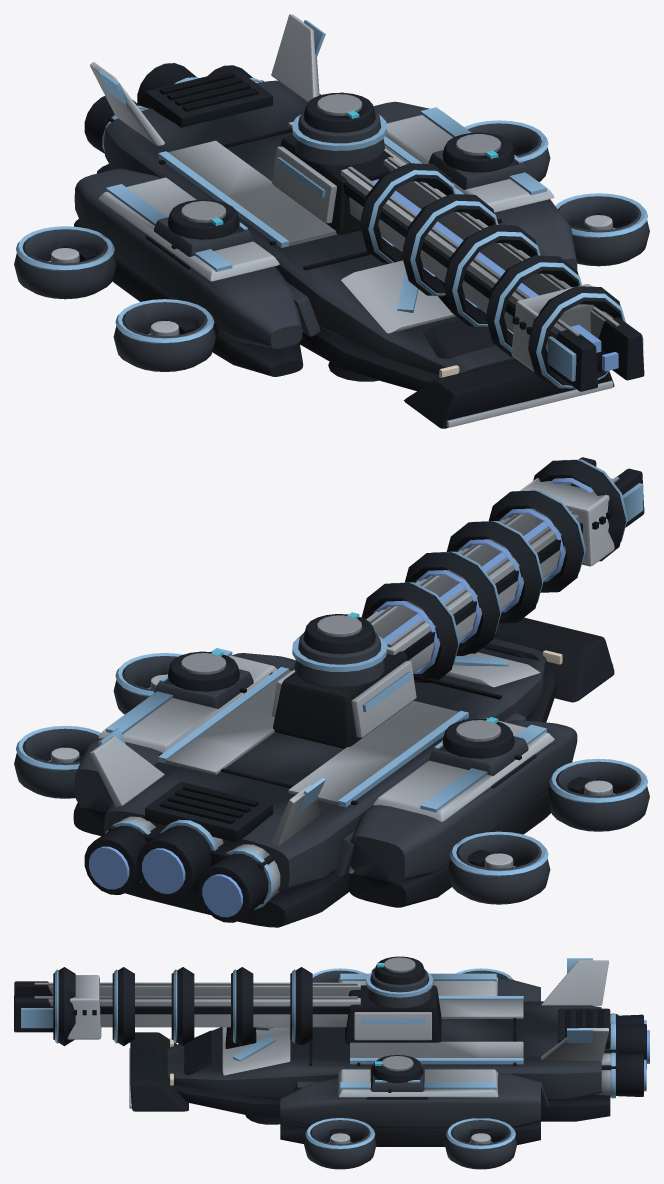
Rendered from ex_lancer_5.glb.
The picture shows the model from 3 angles, top to bottom: view 1: azimuth 30°, elevation 25°; view 2: azimuth 150°, elevation 25°; view 3: azimuth 270°, elevation 25°; orthographic projection. The views are drawn at different scales.
Parts seen in each view (by area): view 1: body; view 2: body; view 3: body.
Boxes of the visible parts, left/top/right/bottom form: body: left=14, top=14, right=649, bottom=428; body: left=14, top=457, right=649, bottom=927; body: left=14, top=956, right=649, bottom=1169.
Size of the model in its own units: 8.55 by 2.87 by 12.76.
